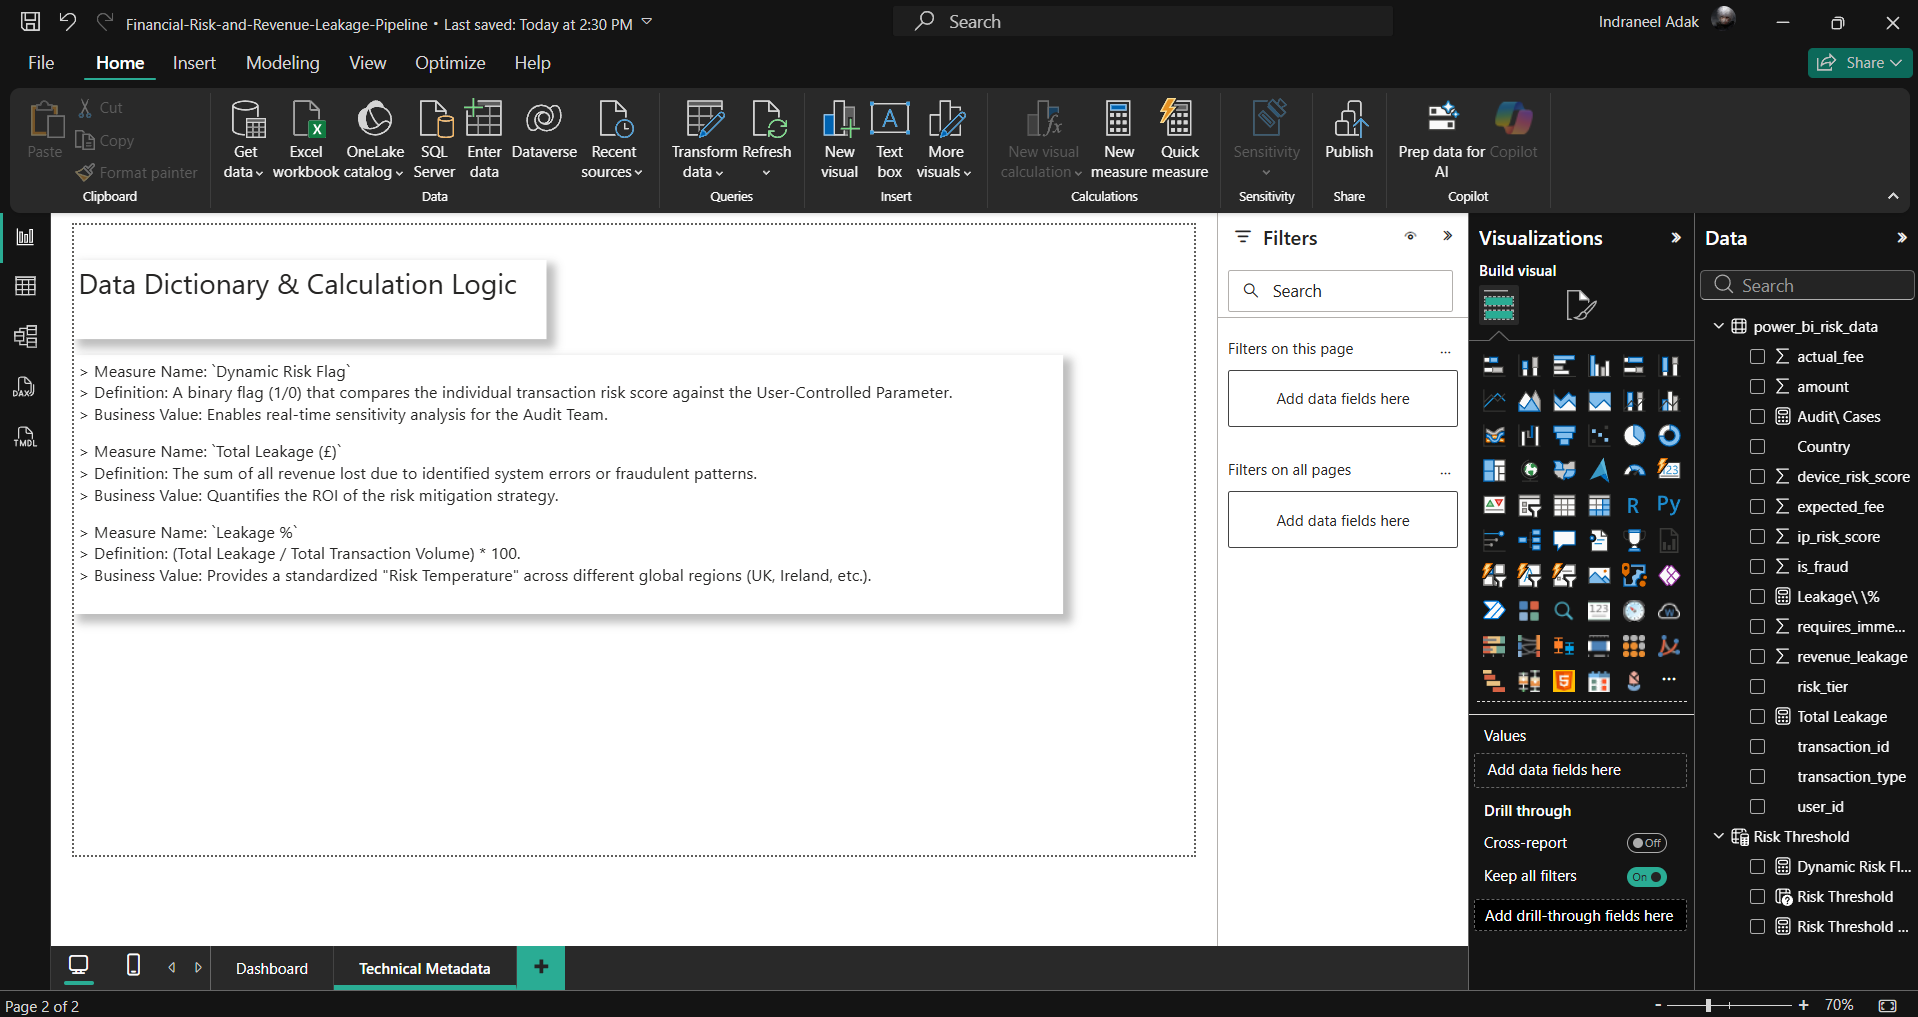

This screenshot's page, from the dashboard's own definition file:
{"tool":"powerbi","page":{"name":"Technical Metadata","canvas":[1280,720],"ordinal":1},"visuals":[{"type":"textbox","box":[0,148.6,1130,295.7],"z":0},{"type":"textbox","box":[0,40,540,90],"z":1}]}

Visuals, with their boxes on the page's 1280x720 design canvas (x1, y1, x2, y2). These are canvas units, not pixel positions in the 1918x1017 screenshot, which may show the page scaled, cropped or inside an application window:
textbox: 0,149,1130,444
textbox: 0,40,540,130
